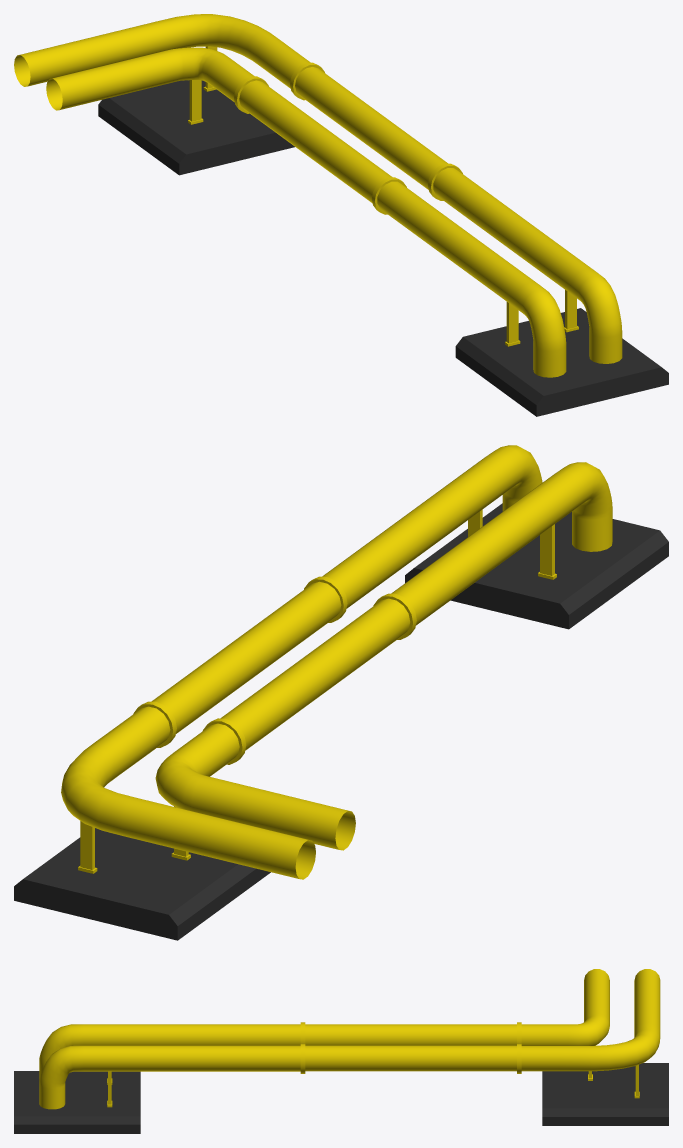
Rendered from pipeNetwork.fbx.
3 renders of one model, top to bottom at view 1: azimuth 30°, elevation 25°; view 2: azimuth 150°, elevation 25°; view 3: azimuth 270°, elevation 25°, orthographic. The views are drawn at different scales.
Visible parts, largest first — view 1: Cube.172, Cube.173, Cylinder.079; view 2: Cube.173, Cube.172, Cylinder.079; view 3: Cube.172, Cube.173, Cylinder.079.
Part boxes in pixels (x1,y1,x2,y2): Cube.172: (372,163,668,416); Cube.173: (14,14,310,175); Cylinder.079: (234,62,447,203); Cube.173: (14,706,355,940); Cube.172: (304,445,668,639); Cylinder.079: (133,581,410,764); Cube.172: (14,1022,305,1133); Cube.173: (521,969,668,1125); Cylinder.079: (305,1022,521,1073).
Size of the model in its own units: 446 by 165 by 1328.
